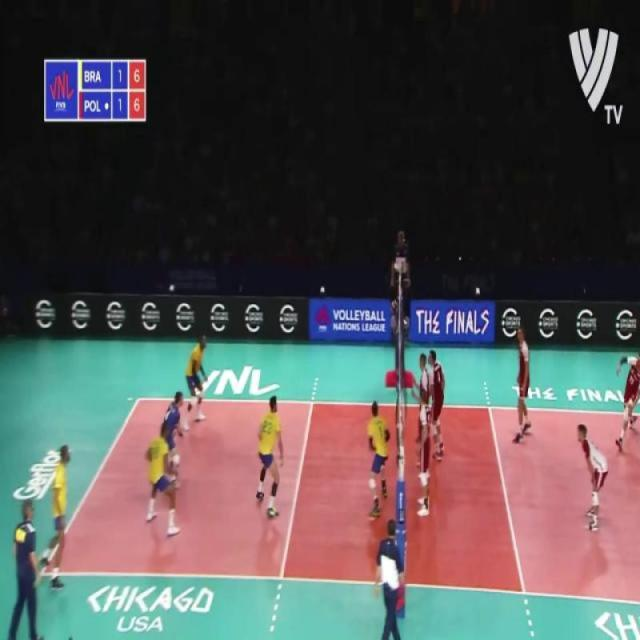volleyball: (390, 300, 398, 314)
